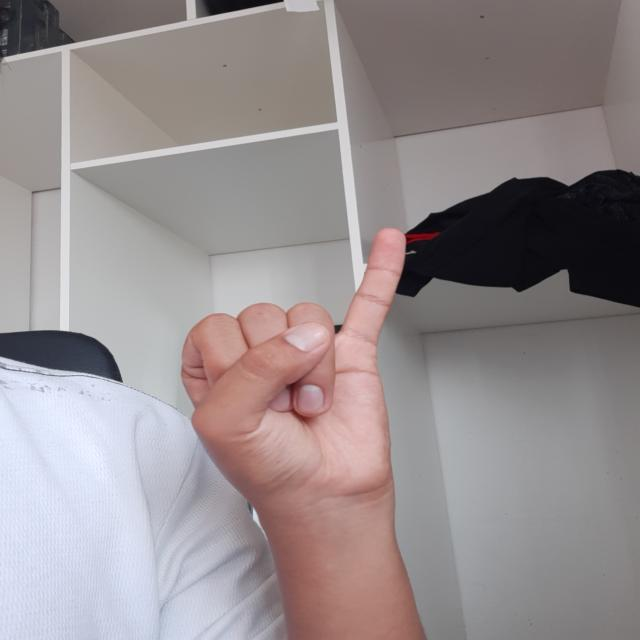I: (174, 214, 444, 537)
